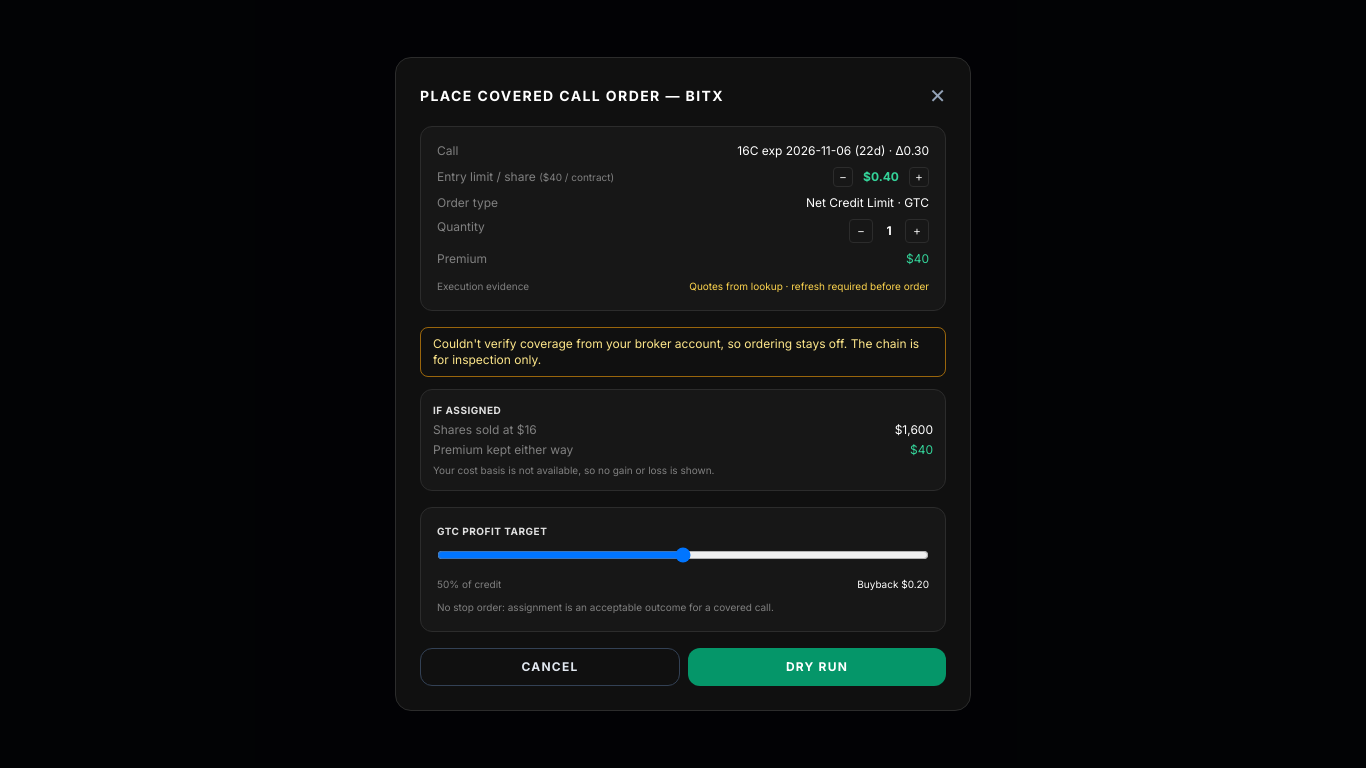
Test: CcTradeModal › never places when coverage is unknown
Click the button "DRY RUN".
click(817, 667)  # box [688,648,946,686]
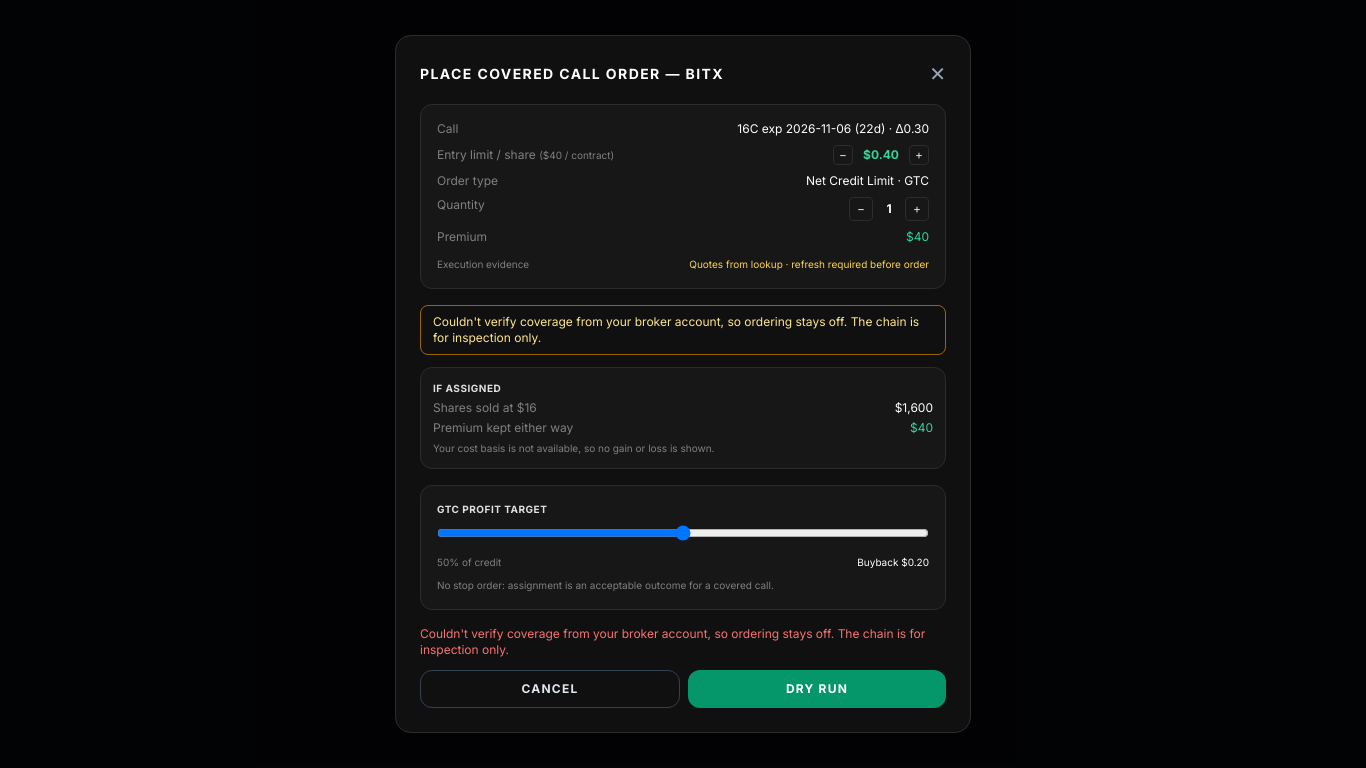
Now the message is shown, box [420,626,946,658]
